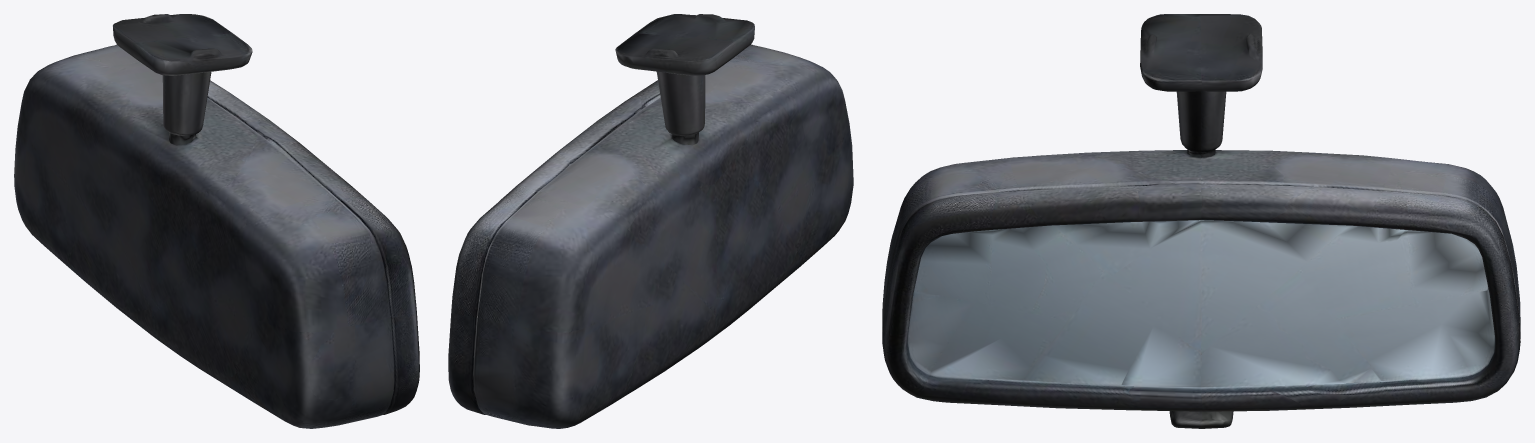
The model's file is retrovisore.glb.
3 renders of one model, left to right at view 1: azimuth 30°, elevation 25°; view 2: azimuth 150°, elevation 25°; view 3: azimuth 270°, elevation 25°, orthographic. The views are drawn at different scales.
Visible parts, largest first — view 1: tripo_node_b2d9b0d4-dfa5-4dfe-919e-1f2f0108bcd0; view 2: tripo_node_b2d9b0d4-dfa5-4dfe-919e-1f2f0108bcd0; view 3: tripo_node_b2d9b0d4-dfa5-4dfe-919e-1f2f0108bcd0.
Boxes of the visible parts, bbox=[...] form: tripo_node_b2d9b0d4-dfa5-4dfe-919e-1f2f0108bcd0: bbox=[14, 14, 419, 428]; tripo_node_b2d9b0d4-dfa5-4dfe-919e-1f2f0108bcd0: bbox=[448, 14, 853, 428]; tripo_node_b2d9b0d4-dfa5-4dfe-919e-1f2f0108bcd0: bbox=[882, 14, 1520, 428].
Size of the model in its own units: 0.2693 by 0.6276 by 0.9995.
Materials: 1 (1 with a texture image).
